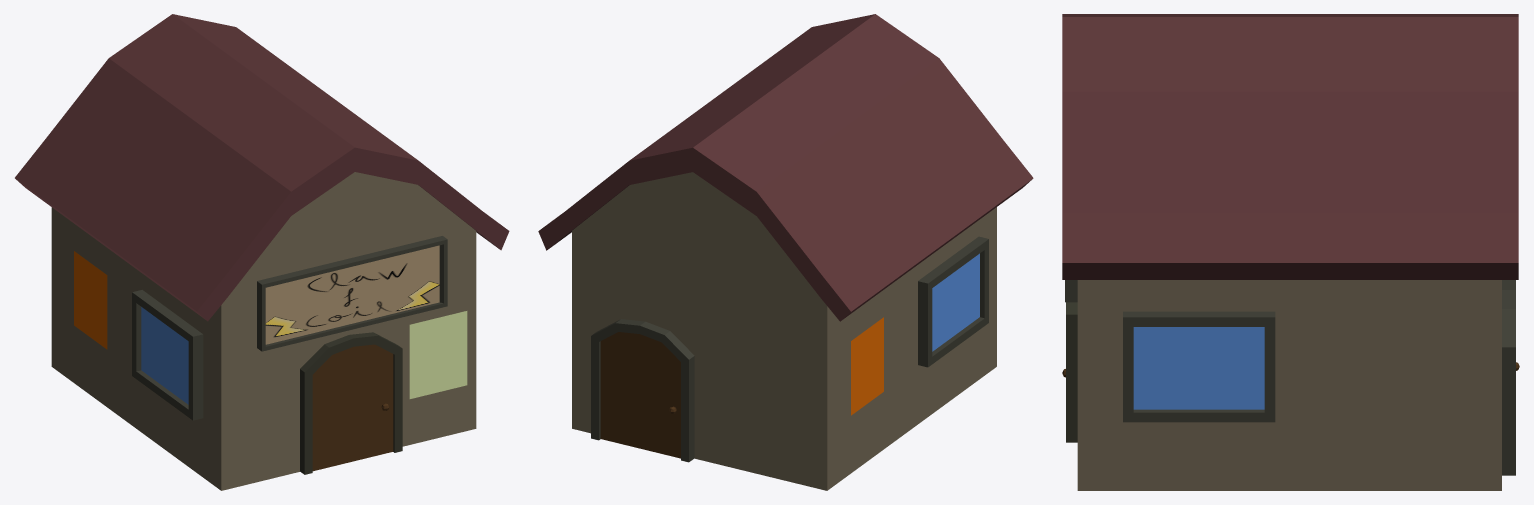
The model's file is CajaCasa 2.fbx.
3 renders of one model, left to right at view 1: azimuth 30°, elevation 25°; view 2: azimuth 150°, elevation 25°; view 3: azimuth 270°, elevation 25°, orthographic. The views are drawn at different scales.
Parts seen in each view (by area): view 1: Letrero; view 2: Letrero; view 3: Letrero.
Part boxes in pixels (x1=…): Letrero: x1=15, y1=14, x2=509, y2=490; Letrero: x1=538, y1=14, x2=1033, y2=490; Letrero: x1=1062, y1=14, x2=1519, y2=490.
Size of the model in its own units: 638 by 618 by 647.
Materials: 10 (1 with a texture image).
